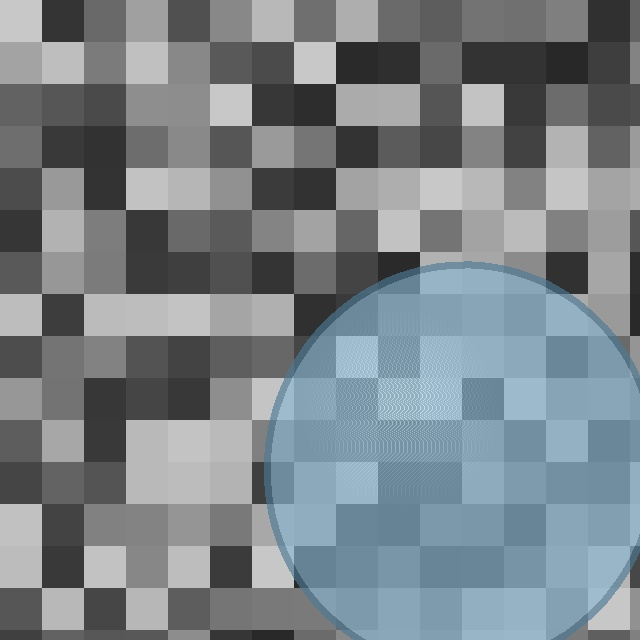lens: (267, 265, 640, 640)
